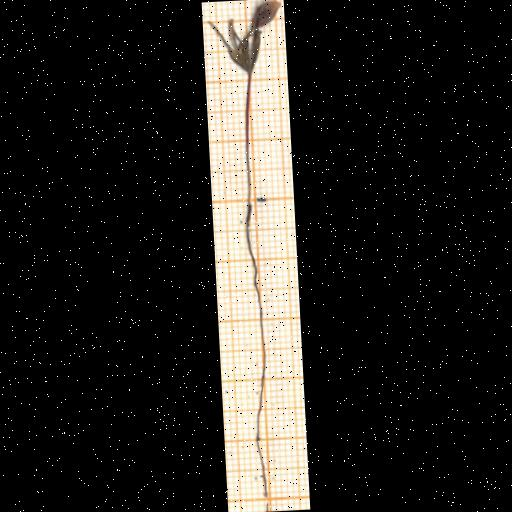flowerPinus: (209, 0, 282, 75)
rootPinus: (246, 203, 267, 498)
stemPinus: (244, 73, 253, 199)
